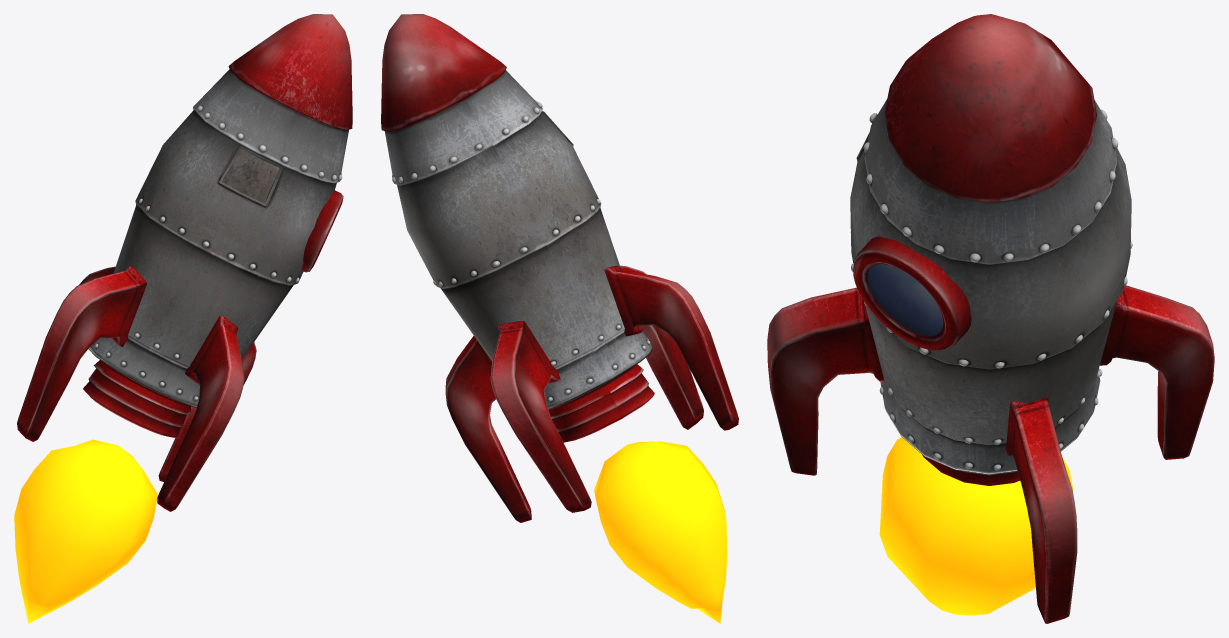
File: stylised_rocket.glb
3 views of the same model, side by side, from view 1: azimuth 30°, elevation 25°; view 2: azimuth 150°, elevation 25°; view 3: azimuth 270°, elevation 25° (orthographic). The views are drawn at different scales.
Parts seen in each view (by area): view 1: Rocket_Body, pCube1, Rocket_Hatch; view 2: Rocket_Body, pCube1; view 3: Rocket_Body, pCube1.
Boxes of the visible parts, bbox=[...] form: Rocket_Body: bbox=[17, 14, 352, 511]; pCube1: bbox=[14, 439, 157, 623]; Rocket_Hatch: bbox=[222, 149, 279, 203]; Rocket_Body: bbox=[381, 14, 738, 522]; pCube1: bbox=[594, 441, 727, 623]; Rocket_Body: bbox=[767, 14, 1214, 623]; pCube1: bbox=[879, 437, 1073, 615].
Bounding box in the file's own units: 28.29 × 42.99 × 21.36.
Materials: 2 (1 with a texture image).
